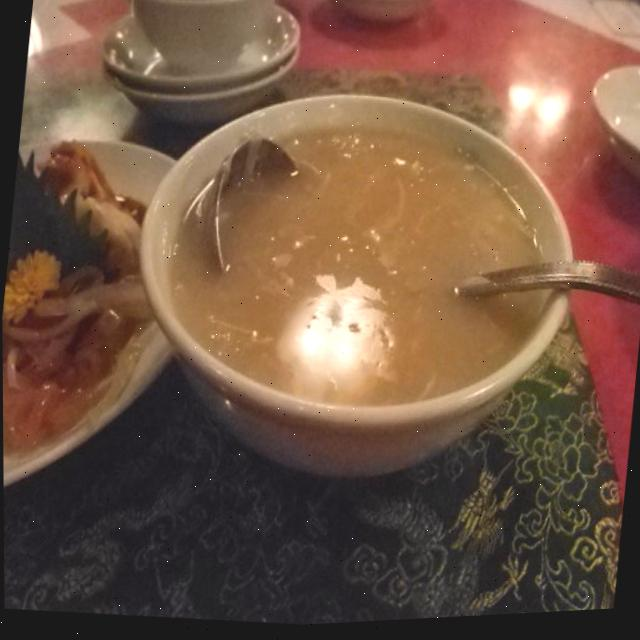汤锅炖物: (137, 75, 640, 500)
